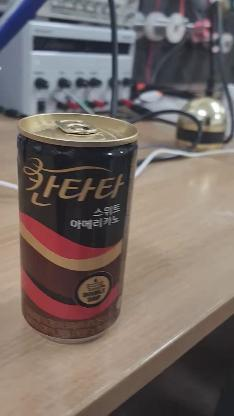Can: (16, 110, 140, 341)
